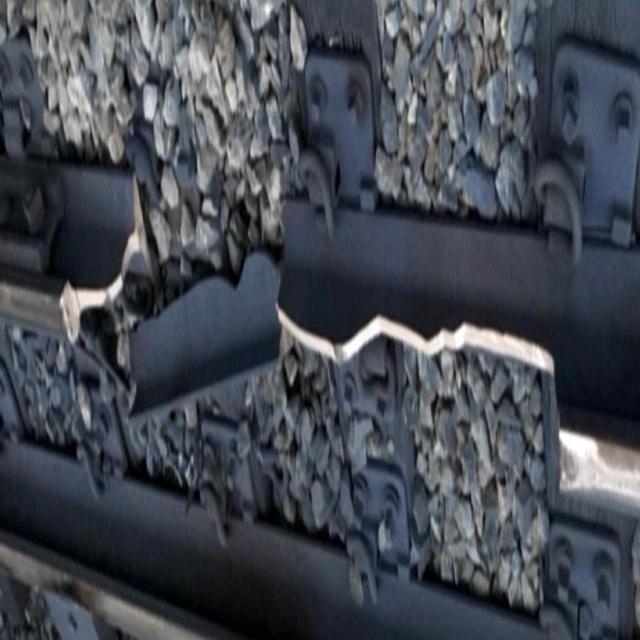broken_rail_high: (55, 168, 568, 484)
